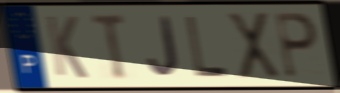J: (146, 15, 180, 79)
K: (43, 13, 90, 82)
L: (184, 14, 231, 79)
P: (273, 11, 319, 81)
T: (89, 11, 130, 82)
X: (225, 11, 283, 83)
